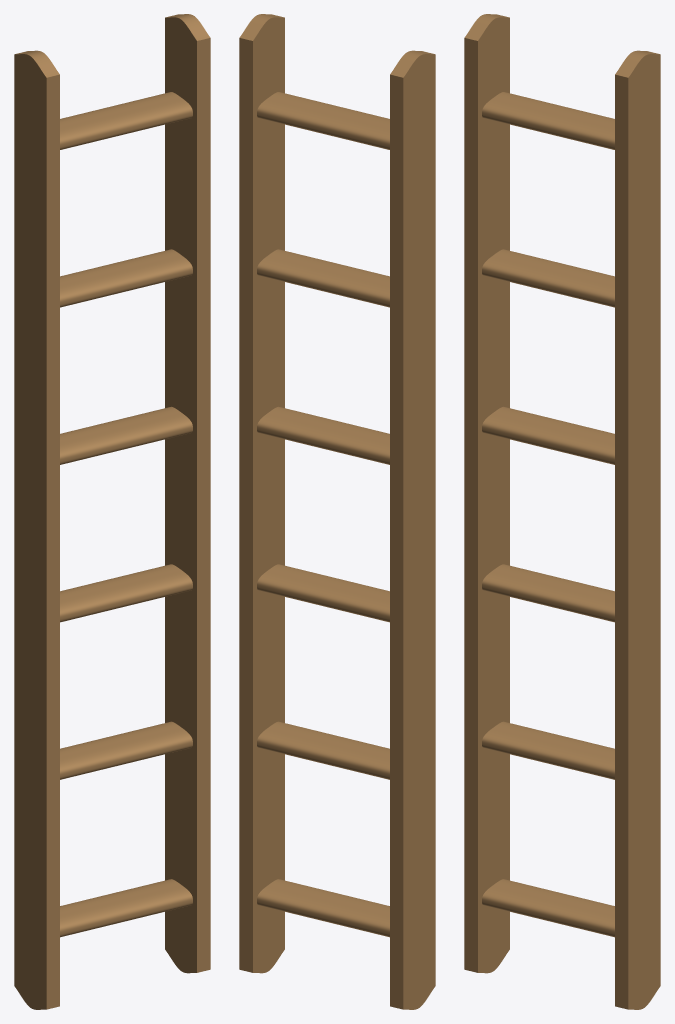
3 renders of one model, left to right at view 1: azimuth 30°, elevation 25°; view 2: azimuth 150°, elevation 25°; view 3: azimuth 330°, elevation 25°, orthographic.
Parts seen in each view (by area): view 1: upright.001, upright, step, step.001, step.002, step.003, step.005, step.004; view 2: upright.001, upright, step, step.001, step.002, step.003, step.005, step.004; view 3: upright, upright.001, step, step.001, step.002, step.003, step.005, step.004.
Part boxes in pixels (left/top/right/bottom): upright.001: left=14, top=50, right=59, bottom=1009; upright: left=165, top=14, right=210, bottom=973; step: left=60, top=879, right=192, bottom=937; step.001: left=60, top=721, right=192, bottom=779; step.002: left=60, top=564, right=192, bottom=622; step.003: left=60, top=406, right=192, bottom=464; step.005: left=60, top=92, right=192, bottom=149; step.004: left=60, top=249, right=192, bottom=307; upright.001: left=390, top=50, right=435, bottom=1009; upright: left=239, top=14, right=284, bottom=973; step: left=257, top=879, right=389, bottom=937; step.001: left=257, top=721, right=389, bottom=779; step.002: left=257, top=564, right=389, bottom=622; step.003: left=257, top=406, right=389, bottom=464; step.005: left=257, top=92, right=389, bottom=149; step.004: left=257, top=249, right=389, bottom=307; upright: left=615, top=50, right=660, bottom=1009; upright.001: left=464, top=14, right=509, bottom=973; step: left=482, top=879, right=614, bottom=937; step.001: left=482, top=721, right=614, bottom=779; step.002: left=482, top=564, right=614, bottom=622; step.003: left=482, top=406, right=614, bottom=464; step.005: left=482, top=92, right=614, bottom=149; step.004: left=482, top=249, right=614, bottom=307.
Bounding box in the file's own units: 0.4509 × 2.5 × 0.1529.
